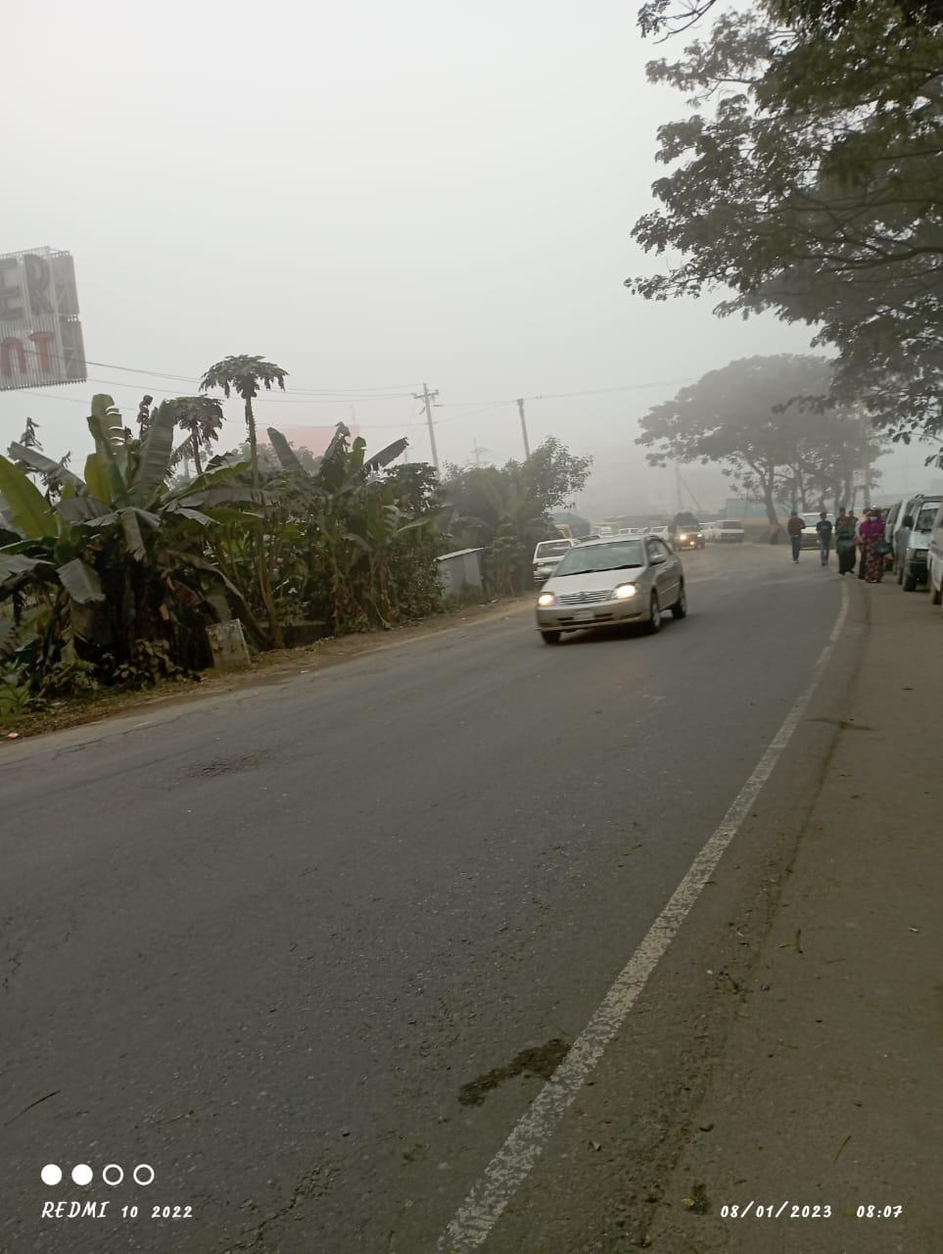Car: (538, 528, 685, 643), (517, 520, 584, 579), (714, 516, 748, 545)
Truck: (666, 508, 705, 551)
